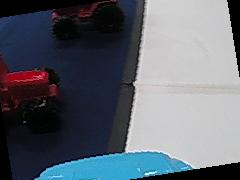Tracktor: (1, 55, 62, 129), (48, 1, 125, 38)
